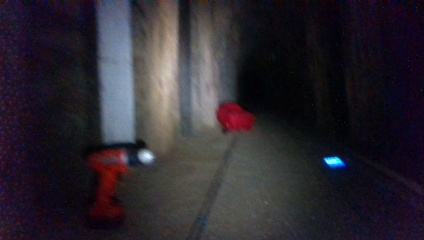backpack: (215, 99, 257, 133)
cellphone: (319, 152, 347, 174)
drill: (89, 141, 156, 231)
